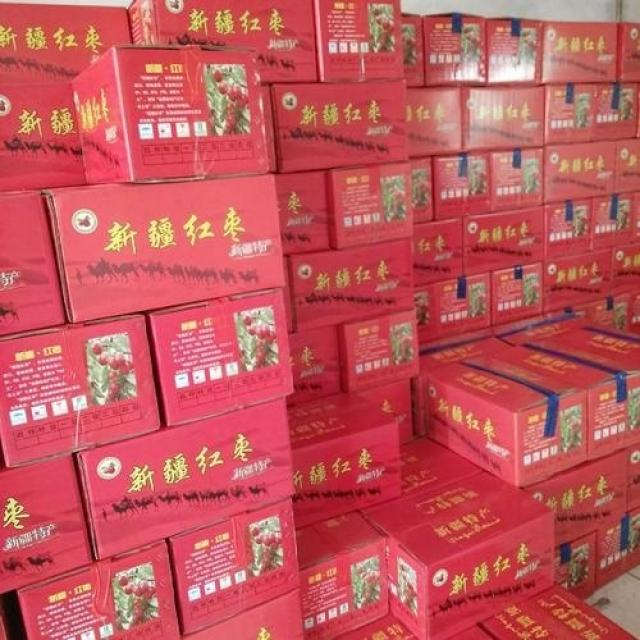box: (40, 173, 286, 323), (73, 397, 295, 560), (365, 470, 554, 639), (71, 44, 269, 183), (0, 315, 161, 467), (424, 355, 588, 489), (144, 288, 294, 426), (488, 338, 639, 462), (166, 497, 300, 636), (15, 539, 182, 639), (287, 390, 402, 530), (128, 0, 318, 84), (0, 451, 94, 594), (270, 80, 409, 174), (295, 510, 390, 639), (288, 236, 414, 333), (521, 448, 629, 548), (0, 3, 132, 83), (357, 436, 483, 515), (0, 189, 65, 336), (0, 81, 86, 190), (480, 584, 639, 639), (313, 0, 406, 82), (326, 163, 414, 249), (338, 307, 419, 394), (182, 587, 306, 639), (463, 206, 545, 277), (461, 86, 545, 153), (541, 21, 619, 85), (544, 247, 614, 314), (275, 171, 330, 256), (422, 12, 486, 85), (544, 141, 617, 204), (286, 324, 340, 407), (418, 329, 513, 375), (350, 379, 413, 446), (432, 152, 491, 220), (407, 86, 462, 157), (594, 507, 639, 593), (486, 17, 542, 86), (548, 324, 639, 366), (435, 272, 492, 339), (486, 311, 594, 346), (490, 260, 544, 326), (558, 289, 639, 333), (413, 217, 463, 287), (491, 148, 544, 212), (545, 84, 596, 146), (555, 528, 596, 602), (544, 198, 592, 260), (592, 192, 635, 251), (596, 83, 638, 141), (334, 615, 416, 639), (402, 12, 424, 87), (410, 157, 433, 224), (612, 243, 639, 297), (615, 138, 639, 194), (415, 284, 436, 344), (619, 21, 639, 82)
